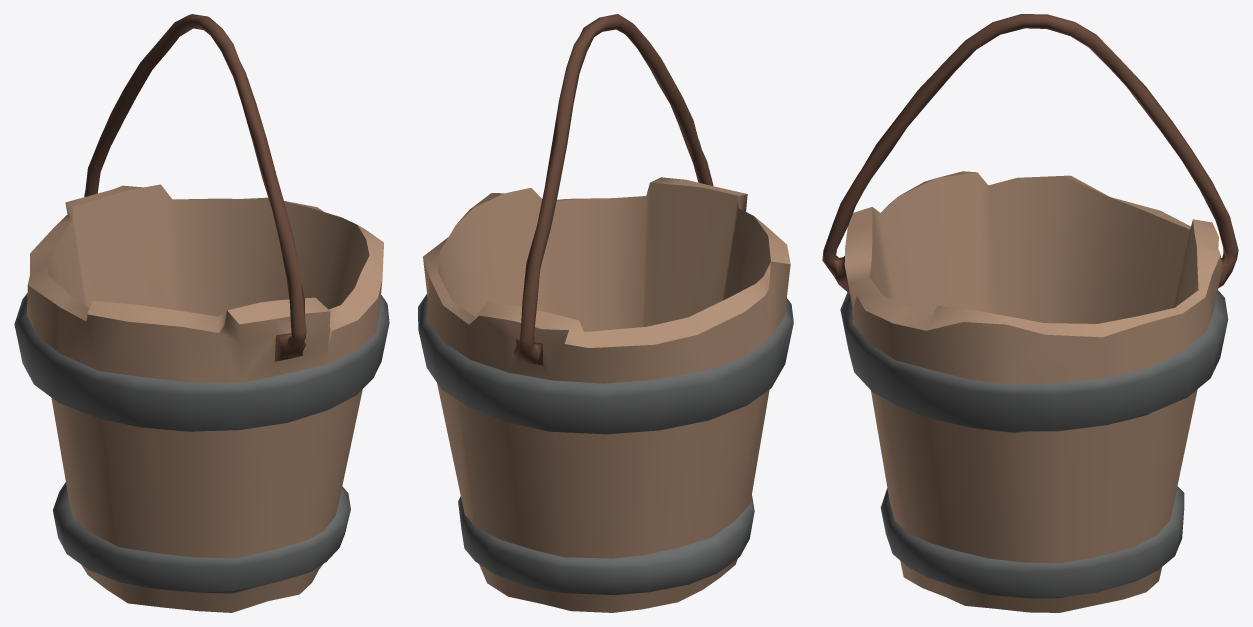
File: wiadro_bez_wody1fbx.fbx
3 views of the same model, side by side, from view 1: azimuth 30°, elevation 25°; view 2: azimuth 150°, elevation 25°; view 3: azimuth 270°, elevation 25° (orthographic). The views are drawn at different scales.
Parts seen in each view (by area): view 1: F_wiadro_bez_wody_01; view 2: F_wiadro_bez_wody_01; view 3: F_wiadro_bez_wody_01.
Part boxes in pixels (x1,y1,x2,y2): F_wiadro_bez_wody_01: (14,14,389,612); F_wiadro_bez_wody_01: (418,14,793,612); F_wiadro_bez_wody_01: (822,14,1238,612).
Bounding box in the file's own units: 20.49 × 32.67 × 22.29.
1 material, 1 textured.
